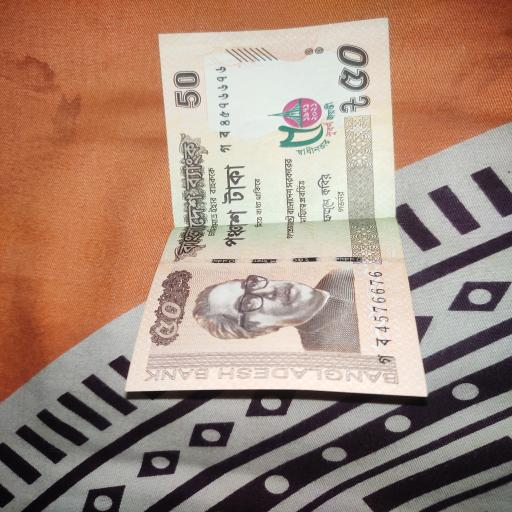50taka: (128, 20, 427, 396)
